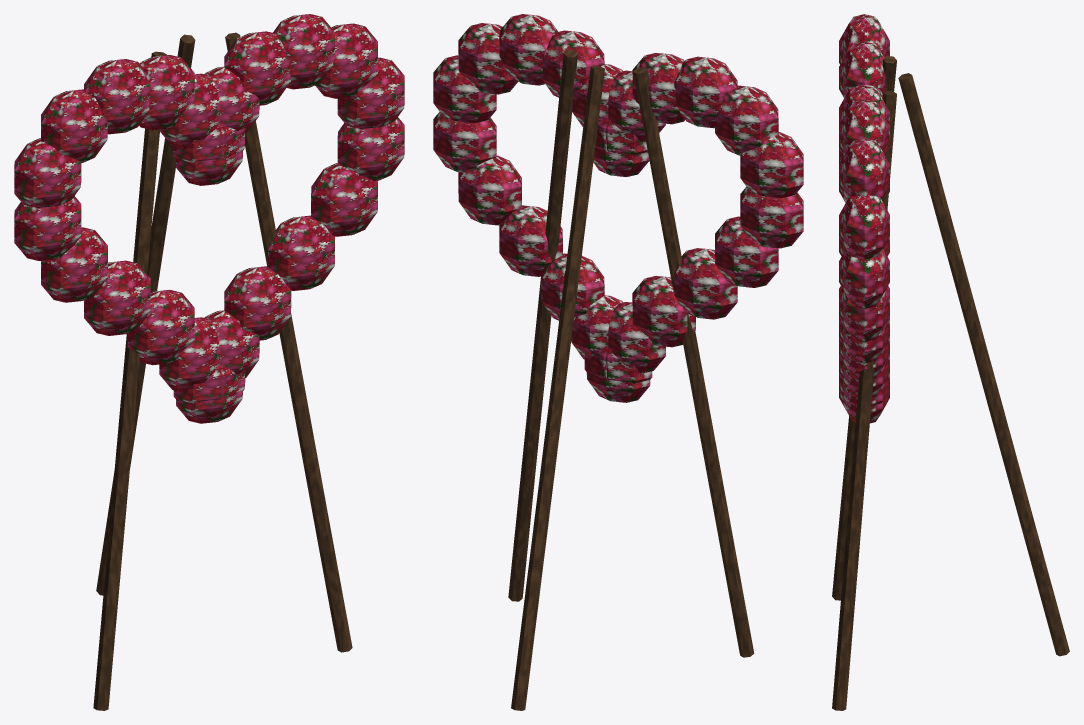
File: corona_corazon.obj
The picture shows the model from 3 angles, left to right: view 1: azimuth 30°, elevation 25°; view 2: azimuth 150°, elevation 25°; view 3: azimuth 270°, elevation 25°; orthographic projection. The views are drawn at different scales.
Parts seen in each view (by area): view 1: Cylinder, Cylinder.001, Sphere.009, Sphere.008, Sphere.017, Sphere.021, Sphere.010, Sphere.020, Sphere.016, Sphere.022, Cylinder.002, Sphere.018 (+15 smaller); view 2: Cylinder.002, Cylinder, Cylinder.001, Sphere.008, Sphere.021, Sphere.017, Sphere.020, Sphere.022, Sphere.016, Sphere.018, Sphere.009, Sphere.019 (+15 smaller); view 3: Cylinder.002, Cylinder.001, Sphere.006, Sphere.005, Sphere.007, Cylinder, Sphere.004, Sphere.023, Sphere.008, Sphere.022, Sphere.009, Sphere.010 (+4 smaller).
Boxes of the visible parts, x1,y1,x2,y2 form: Cylinder: (93,51,166,710); Cylinder.001: (225,32,352,652); Sphere.009: (268,215,334,290); Sphere.008: (311,163,377,236); Sphere.017: (84,260,150,335); Sphere.021: (41,89,107,163); Sphere.010: (224,266,291,340); Sphere.020: (14,138,81,207); Sphere.016: (127,290,194,365); Sphere.022: (84,59,150,134); Cylinder.002: (96,34,195,595); Sphere.018: (41,227,107,302); Cylinder.002: (511,66,604,710); Cylinder: (633,67,754,657); Cylinder.001: (508,50,577,601); Sphere.008: (458,155,521,225); Sphere.021: (715,85,778,155); Sphere.017: (674,248,737,319); Sphere.020: (740,132,803,198); Sphere.022: (674,56,737,128); Sphere.016: (632,275,695,347); Sphere.018: (715,216,778,287); Sphere.009: (499,205,562,276); Sphere.019: (740,187,803,248); Cylinder.002: (898,73,1069,656); Cylinder.001: (832,91,896,710); Sphere.006: (839,195,889,259); Sphere.005: (839,139,889,199); Sphere.007: (839,249,889,308); Cylinder: (832,56,896,600); Sphere.004: (839,99,889,155); Sphere.023: (839,41,885,97); Sphere.008: (839,288,889,341); Sphere.022: (839,15,889,65); Sphere.009: (839,315,889,363); Sphere.010: (839,337,889,379).
Bounding box in the file's own units: 0.8314 × 1.29 × 0.4675.
2 materials, 2 textured.
